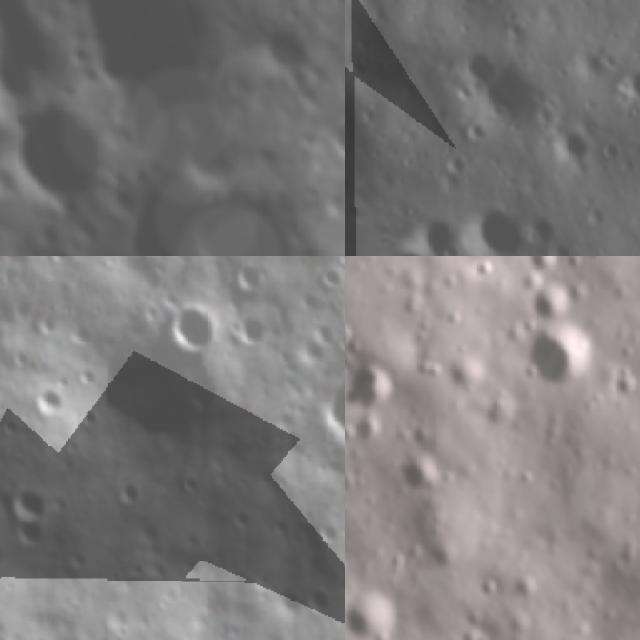crater: (58, 304, 245, 473), (164, 146, 345, 256), (0, 90, 122, 224), (454, 34, 574, 154), (0, 0, 80, 113), (539, 103, 618, 182), (0, 204, 114, 256), (244, 13, 318, 88), (453, 194, 538, 256), (158, 291, 224, 360), (304, 362, 345, 459), (530, 330, 588, 388), (226, 303, 283, 360), (4, 474, 56, 528), (603, 59, 640, 125), (27, 377, 76, 426), (348, 590, 399, 635), (223, 256, 276, 298), (268, 579, 313, 624), (10, 509, 54, 549), (319, 109, 345, 172), (302, 581, 342, 621), (401, 452, 441, 489), (529, 282, 572, 316), (114, 472, 154, 508), (307, 317, 339, 349), (317, 256, 345, 290), (317, 516, 344, 550), (174, 466, 202, 496), (475, 256, 502, 283), (532, 256, 569, 273), (87, 624, 126, 640), (335, 286, 345, 331), (25, 632, 59, 640), (159, 635, 196, 640)
